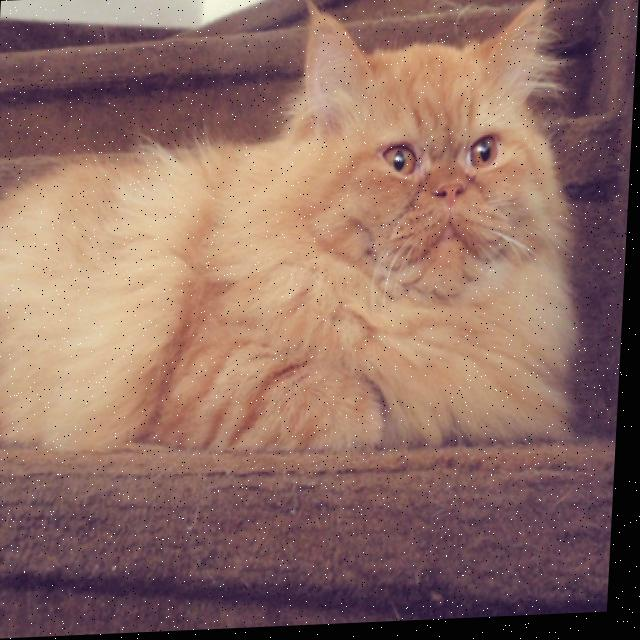Persian: (0, 0, 600, 475)
